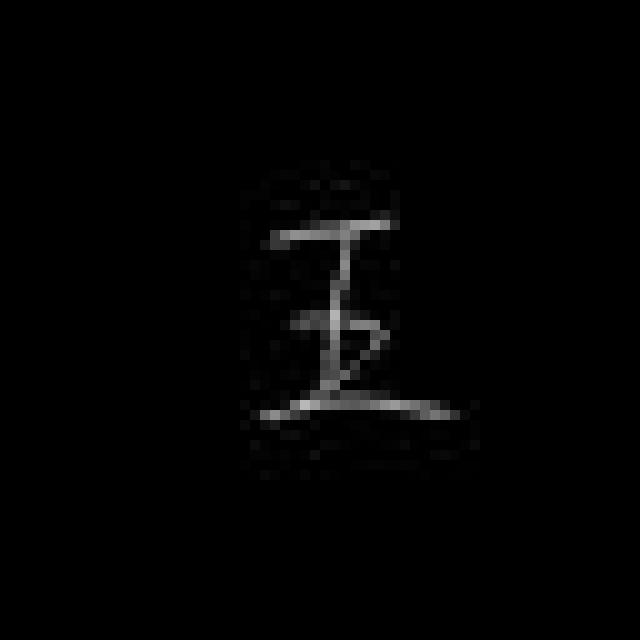5 -five-: (253, 210, 456, 431)
